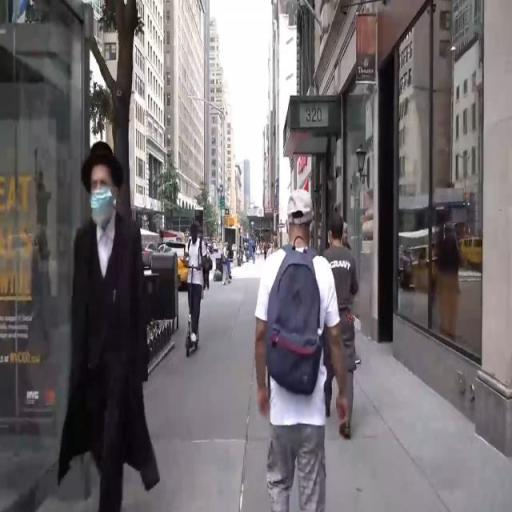person: (63, 138, 162, 512), (243, 189, 346, 512), (327, 215, 364, 441), (181, 220, 207, 373), (219, 243, 232, 291), (343, 211, 350, 246), (253, 241, 256, 264)
